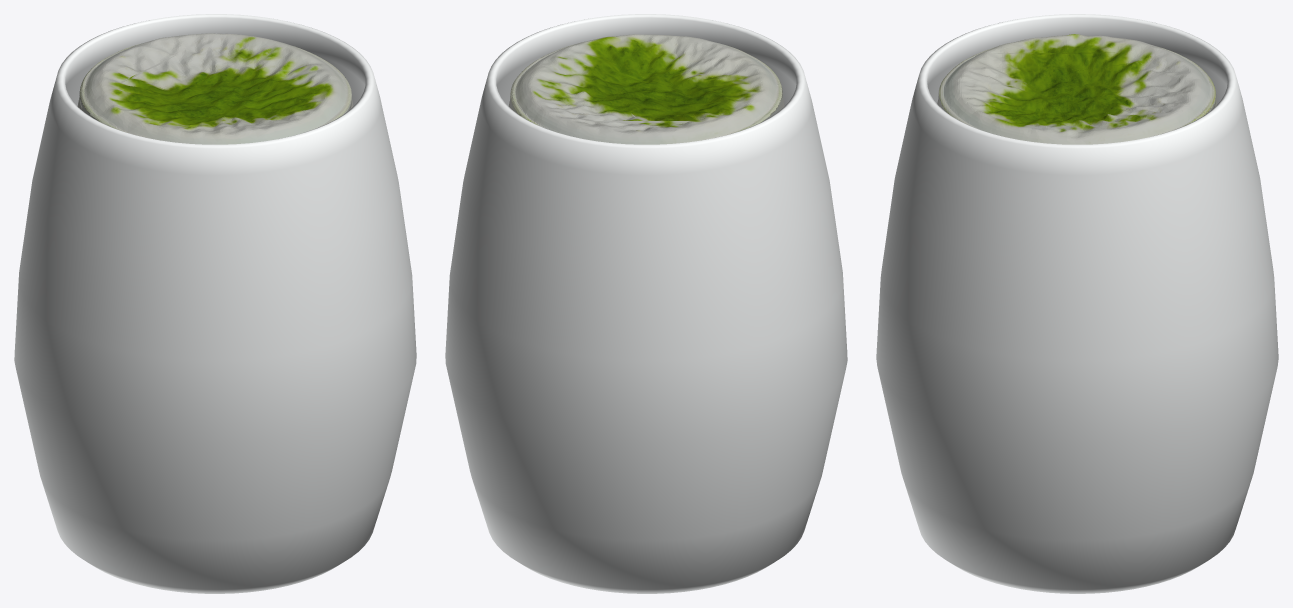
File: matcha_v4.glb
3 renders of one model, left to right at view 1: azimuth 30°, elevation 25°; view 2: azimuth 150°, elevation 25°; view 3: azimuth 270°, elevation 25°, orthographic.
Parts seen in each view (by area): view 1: Thick_Crystal_Glass_Tumbler, Matcha_Drink_Asset; view 2: Thick_Crystal_Glass_Tumbler, Matcha_Drink_Asset; view 3: Thick_Crystal_Glass_Tumbler, Matcha_Drink_Asset.
Part boxes in pixels (box(x1,y1,x2,y2)): Thick_Crystal_Glass_Tumbler: box(14, 14, 416, 593); Matcha_Drink_Asset: box(77, 33, 353, 144); Thick_Crystal_Glass_Tumbler: box(445, 14, 847, 593); Matcha_Drink_Asset: box(508, 34, 784, 144); Thick_Crystal_Glass_Tumbler: box(876, 14, 1278, 593); Matcha_Drink_Asset: box(937, 34, 1217, 144).
Size of the model in its own units: 0.91 by 1.13 by 0.91.
Materials: 2 (1 with a texture image).
